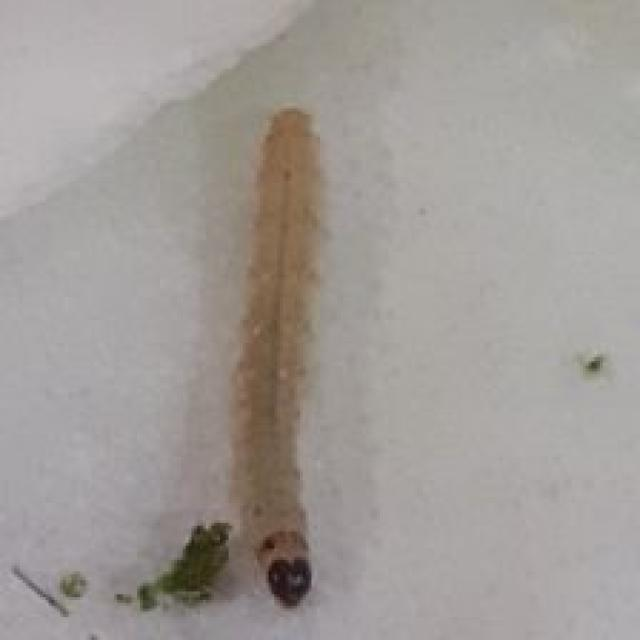white mucus: (156, 65, 378, 606)
